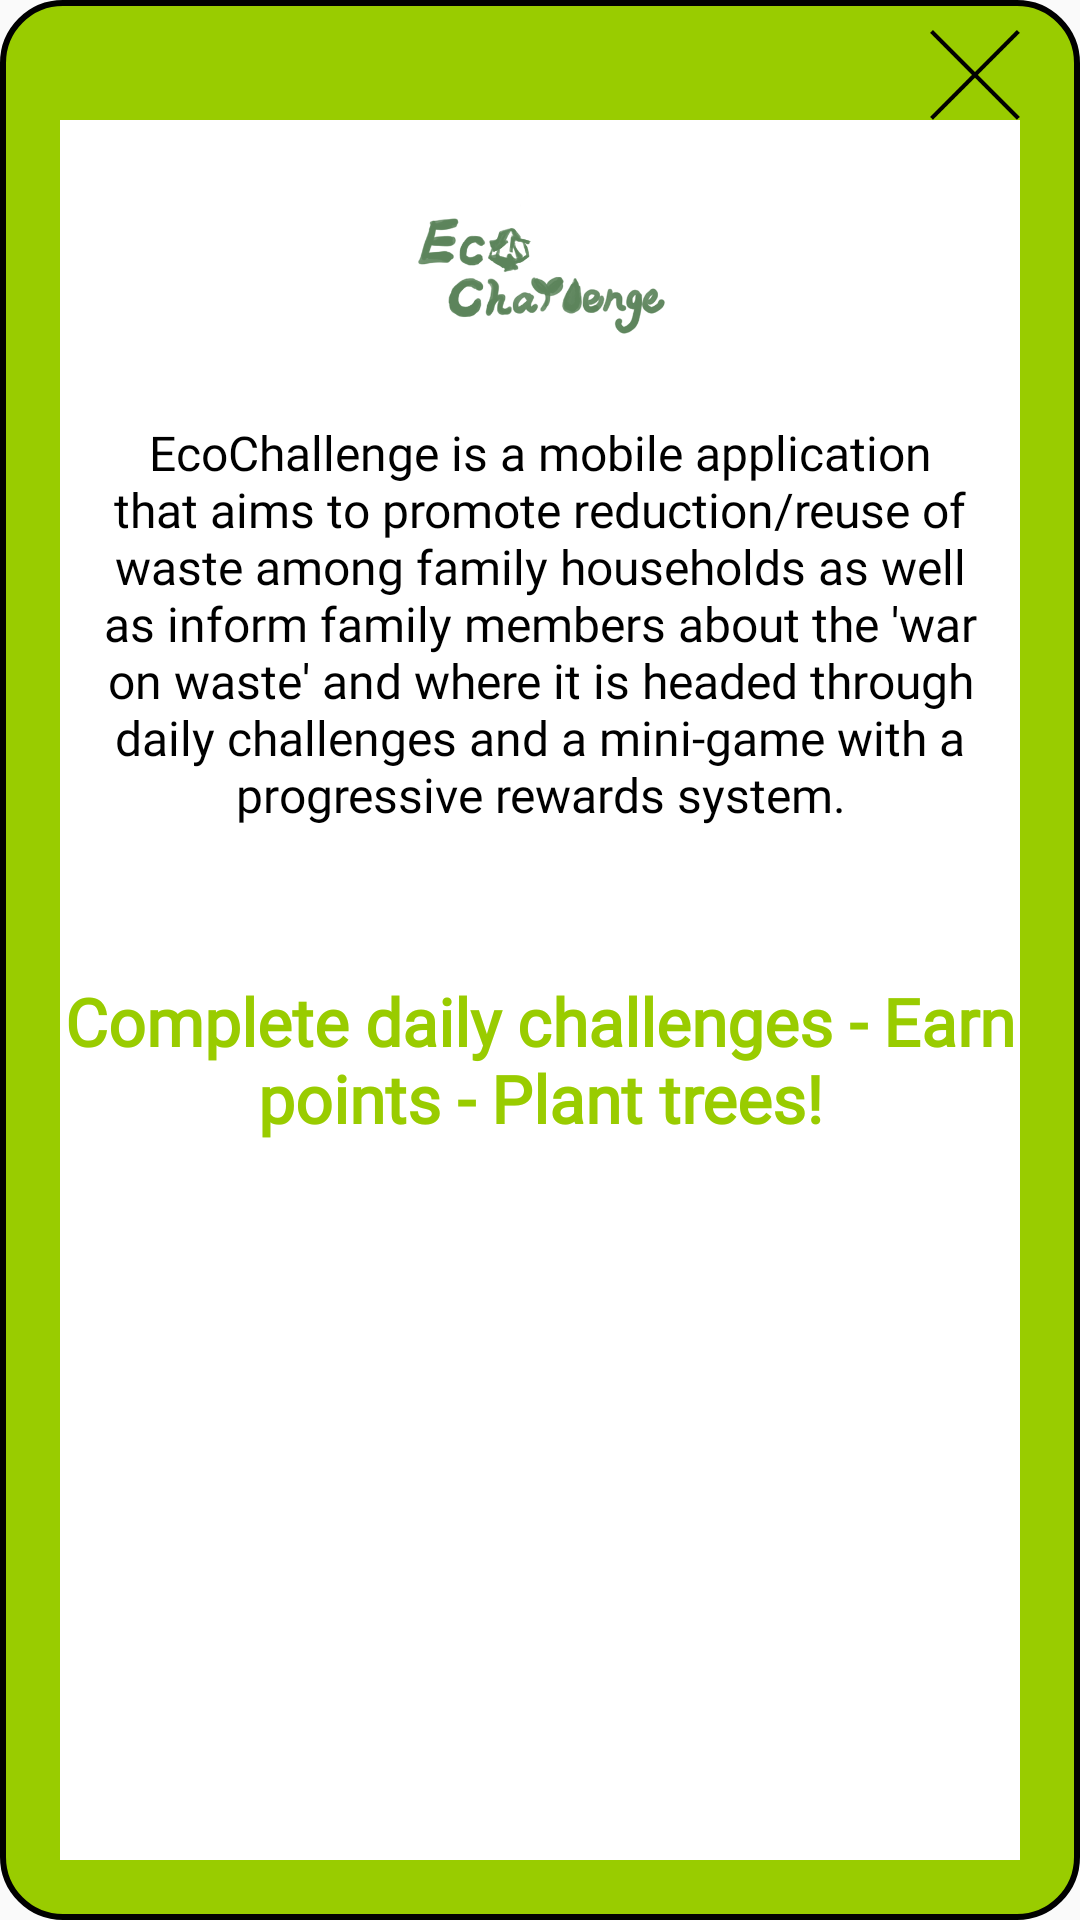

Icon bounding boxes for this 1080×1920 phone screenshot, format (x1, y1, x2, y2):
close: (930, 30, 1020, 120)
